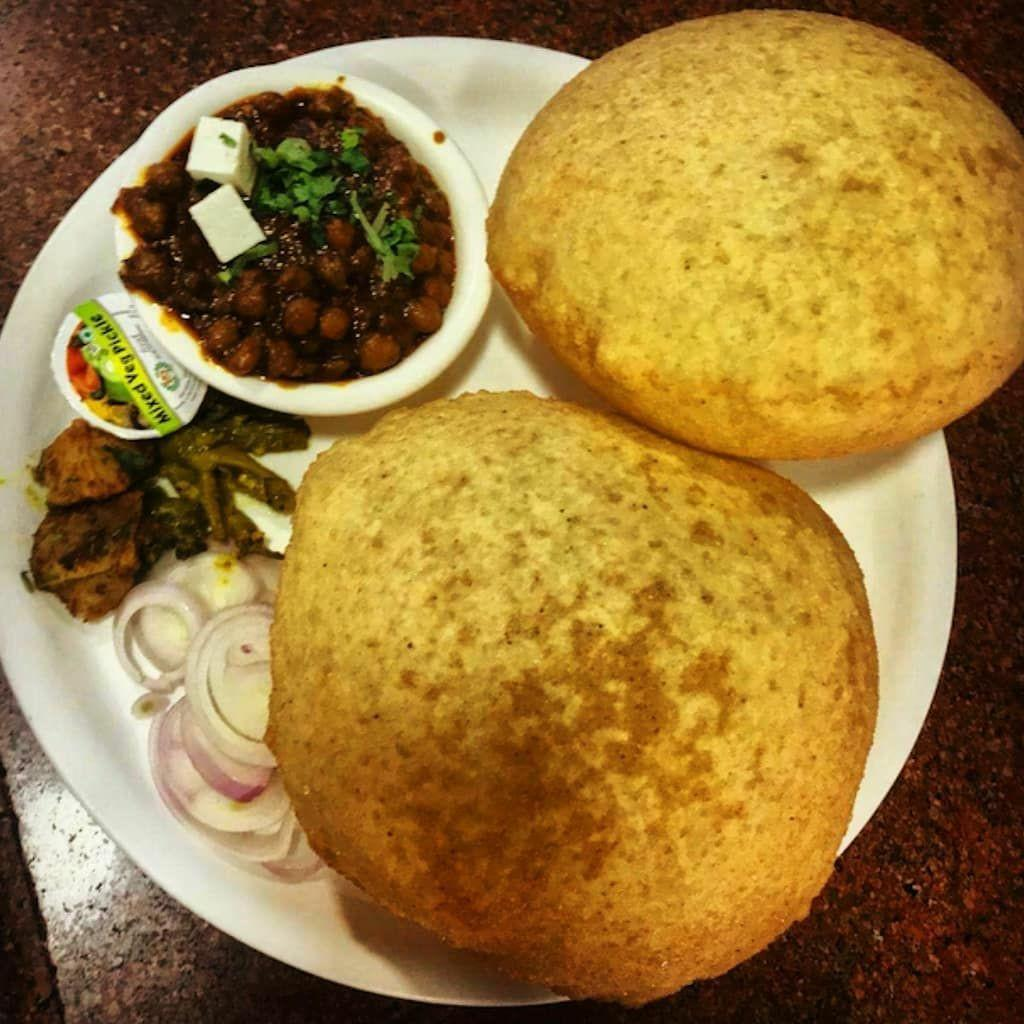Bhatura: (271, 388, 879, 1005), (489, 6, 1024, 461)
Chole: (123, 78, 463, 385)
